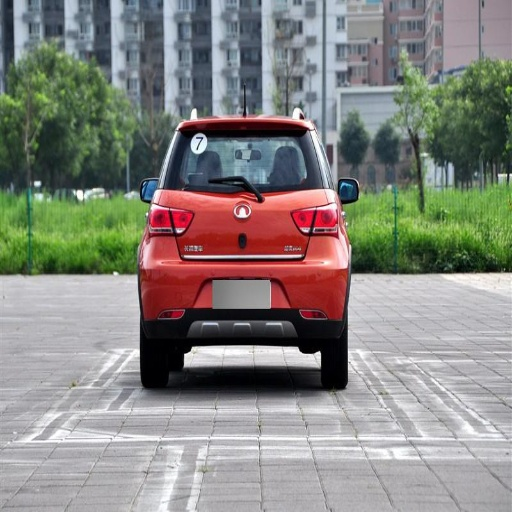back_bumper: (139, 232, 348, 337)
trunk: (152, 190, 327, 284)
